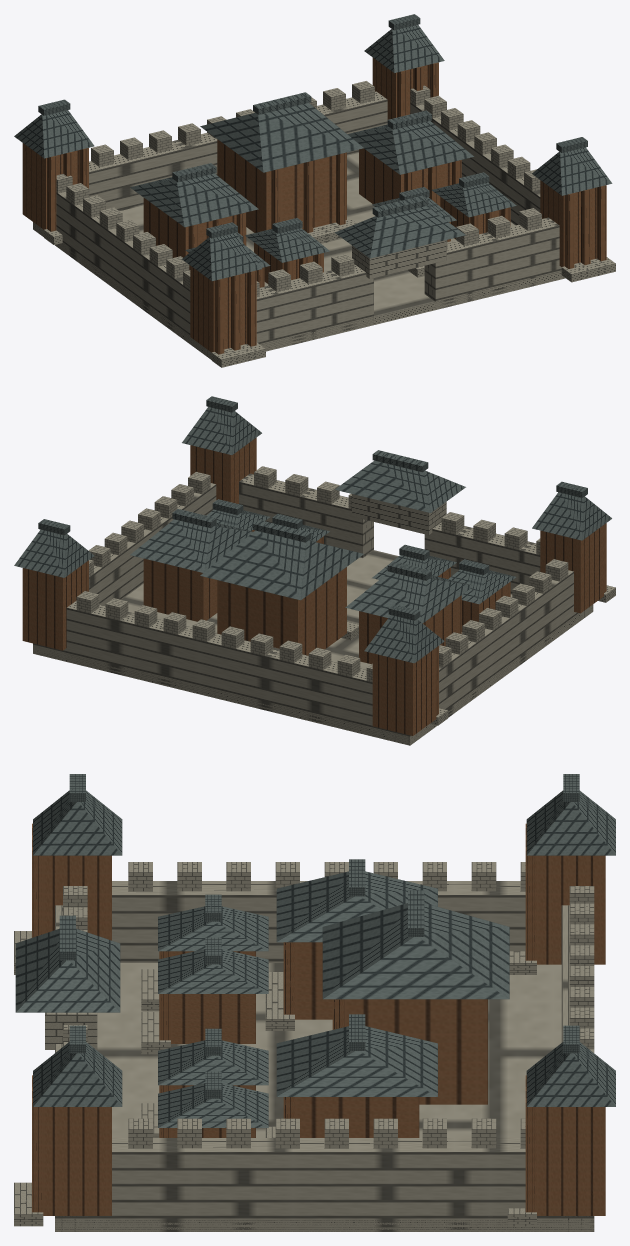
The model's file is city1-lod0.glb.
3 views of the same model, one above another, from view 1: azimuth 30°, elevation 25°; view 2: azimuth 150°, elevation 25°; view 3: azimuth 270°, elevation 25° (orthographic). The views are drawn at different scales.
Bounding box in the file's own units: 2.08 × 0.632 × 1.84.
1 material, 1 textured.
